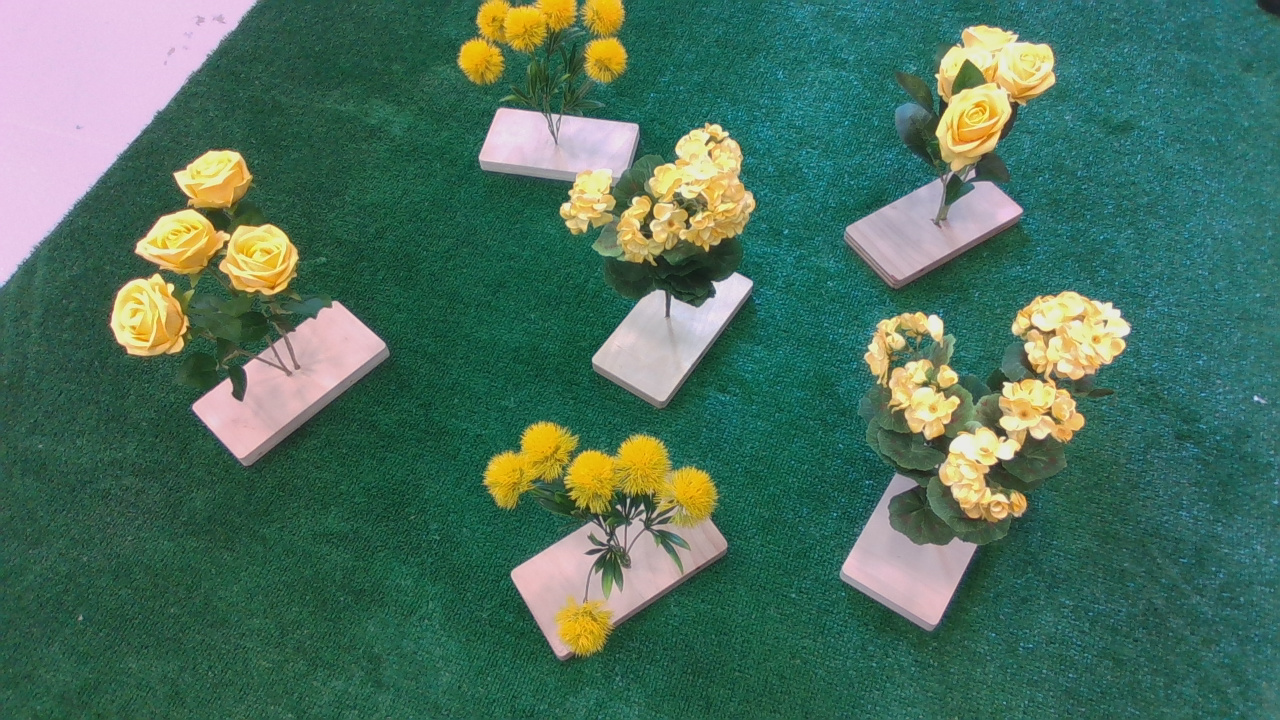dandelion: (474, 415, 736, 677), (439, 6, 652, 96)
geranium: (838, 287, 1146, 539), (563, 126, 771, 327)
rose: (80, 152, 327, 374), (881, 24, 1069, 208)
